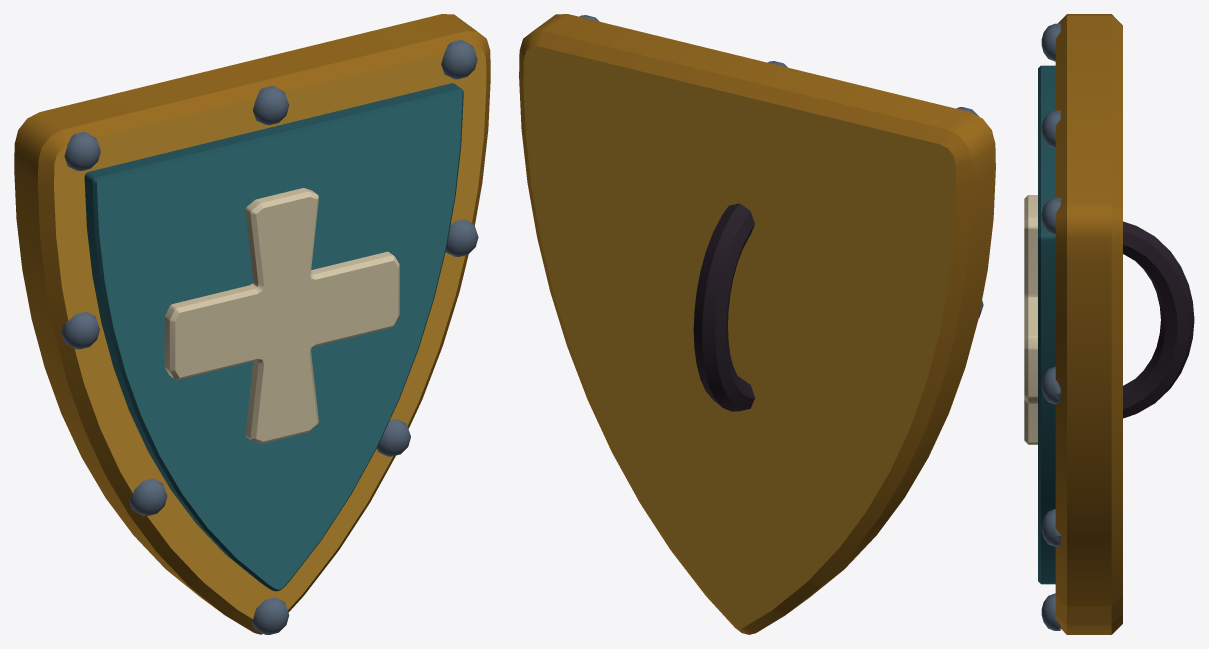
File: HeaterShield_14.glb
3 renders of one model, left to right at view 1: azimuth 30°, elevation 25°; view 2: azimuth 150°, elevation 25°; view 3: azimuth 270°, elevation 25°, orthographic. The views are drawn at different scales.
Visible parts, largest first — view 1: HeaterShield_14; view 2: HeaterShield_14; view 3: HeaterShield_14.
Part boxes in pixels (x1=…): HeaterShield_14: x1=14, y1=14, x2=490, y2=634; HeaterShield_14: x1=519, y1=14, x2=995, y2=634; HeaterShield_14: x1=1024, y1=14, x2=1194, y2=634.
Size of the model in its own units: 2.21 by 2.58 by 0.76.
